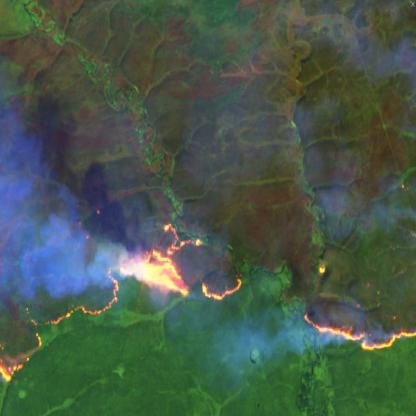fire: (0, 217, 244, 384), (302, 260, 416, 353)
